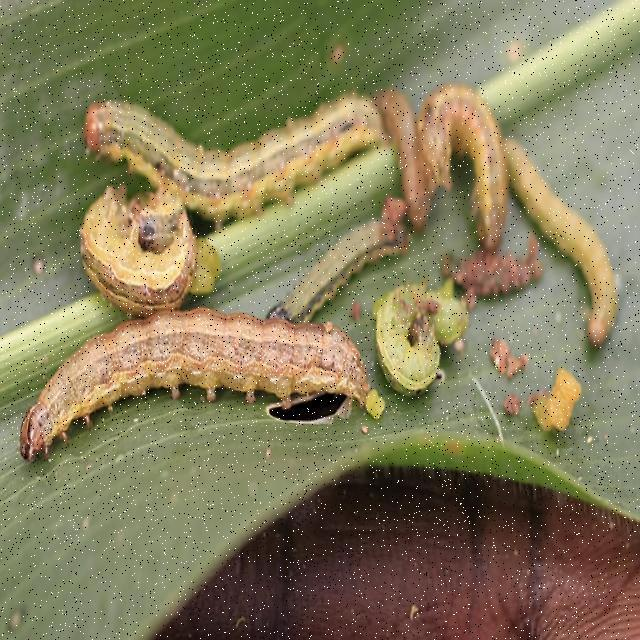army worm: (9, 312, 383, 481), (66, 50, 383, 192), (347, 23, 511, 266), (243, 167, 408, 373), (512, 94, 627, 368), (66, 156, 203, 339), (368, 247, 494, 423)
